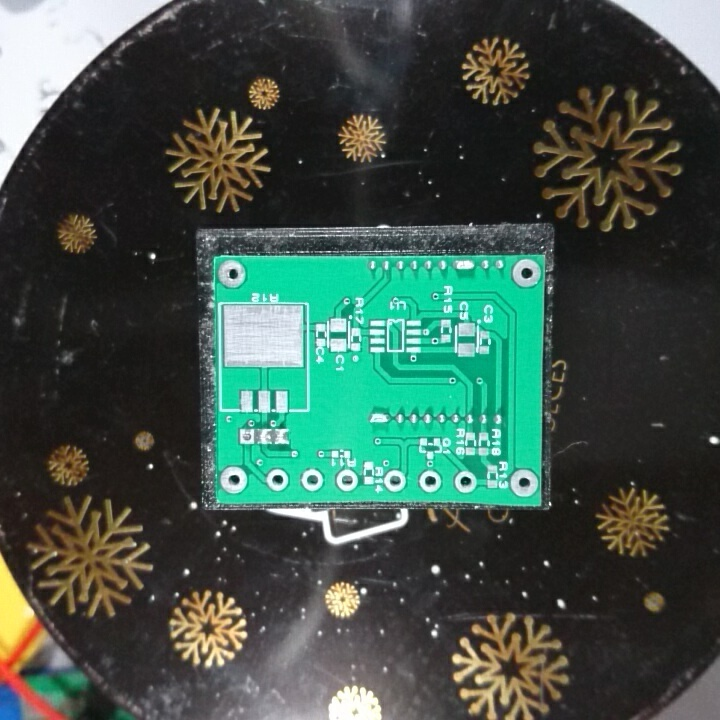F: (509, 257, 542, 292), (215, 257, 246, 292), (218, 464, 250, 495), (508, 469, 539, 498), (300, 468, 327, 495), (334, 466, 359, 495), (264, 468, 293, 492), (417, 469, 443, 495), (453, 471, 479, 496), (384, 470, 407, 495), (236, 424, 256, 449)
P: (452, 257, 476, 275), (367, 411, 391, 429)
